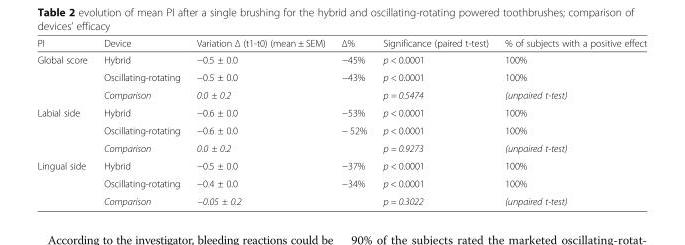table: (36, 36, 646, 206)
table column: (496, 36, 646, 206), (187, 36, 332, 206), (374, 36, 496, 206), (94, 36, 187, 206), (36, 36, 94, 206), (332, 36, 374, 206)
table column header: (36, 36, 646, 50)
table row: (36, 67, 646, 85), (36, 85, 646, 103), (36, 103, 646, 121), (36, 138, 646, 156), (36, 156, 646, 174), (36, 50, 646, 67), (36, 121, 646, 138), (36, 174, 646, 191), (36, 191, 646, 206), (36, 36, 646, 50)
table spanning cell: (36, 50, 94, 103), (36, 103, 94, 156), (36, 156, 94, 206)
